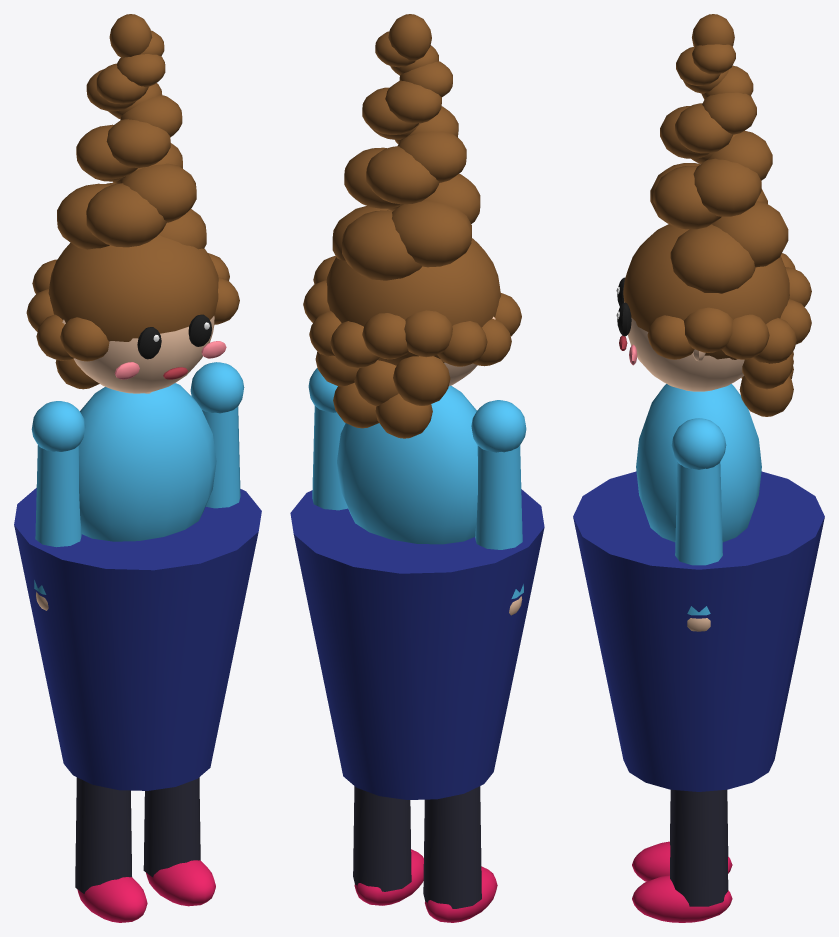
The model's file is cameos_lulu_avigail.glb.
3 views of the same model, side by side, from view 1: azimuth 30°, elevation 25°; view 2: azimuth 150°, elevation 25°; view 3: azimuth 270°, elevation 25° (orthographic). The views are drawn at different scales.
Parts seen in each view (by area): view 1: Body.001, CameosLuluAvigailExtra, Leg_R.001, Leg_L.001, Arm_R.001, Arm_L.001; view 2: Body.001, CameosLuluAvigailExtra, Leg_R.001, Arm_R.001, Leg_L.001, Arm_L.001; view 3: Body.001, CameosLuluAvigailExtra, Leg_L.001, Arm_L.001, Leg_R.001.
Boxes of the visible parts, bbox=[...] form: Body.001: bbox=[14, 314, 261, 790]; CameosLuluAvigailExtra: bbox=[26, 14, 239, 389]; Leg_R.001: bbox=[75, 777, 147, 922]; Leg_L.001: bbox=[143, 777, 215, 906]; Arm_R.001: bbox=[31, 401, 85, 610]; Arm_L.001: bbox=[190, 362, 244, 508]; Body.001: bbox=[290, 316, 544, 799]; CameosLuluAvigailExtra: bbox=[303, 14, 521, 438]; Leg_R.001: bbox=[423, 786, 497, 922]; Arm_R.001: bbox=[471, 400, 526, 615]; Leg_L.001: bbox=[353, 786, 423, 905]; Arm_L.001: bbox=[308, 368, 347, 510]; Body.001: bbox=[573, 277, 824, 791]; CameosLuluAvigailExtra: bbox=[623, 14, 811, 416]; Leg_L.001: bbox=[632, 789, 732, 922]; Arm_L.001: bbox=[671, 418, 726, 631]; Leg_R.001: bbox=[632, 790, 732, 881].
Size of the model in its own units: 0.6 by 2.33 by 0.6.
